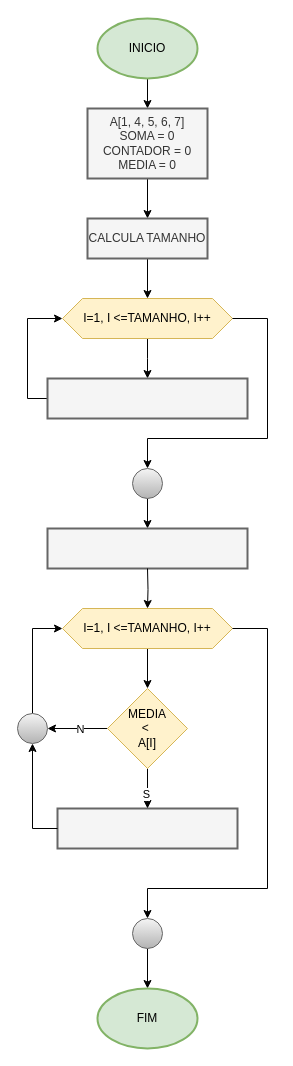
Image size: 293x1066. Some labels were removed from this diagram. The shapes that lost their labels are listed below. From the top down, each one's centre as x and y in pixels, then its label:
At point 147,398: "SOMA = SOMA + A[I] CONTADOR = CONTADOR + 1".
At point 147,548: "MEDIA = SOMA/CONTADOR CONTADOR = 0".
At point 147,828: "CONTADOR = CONTADOR + 1".
